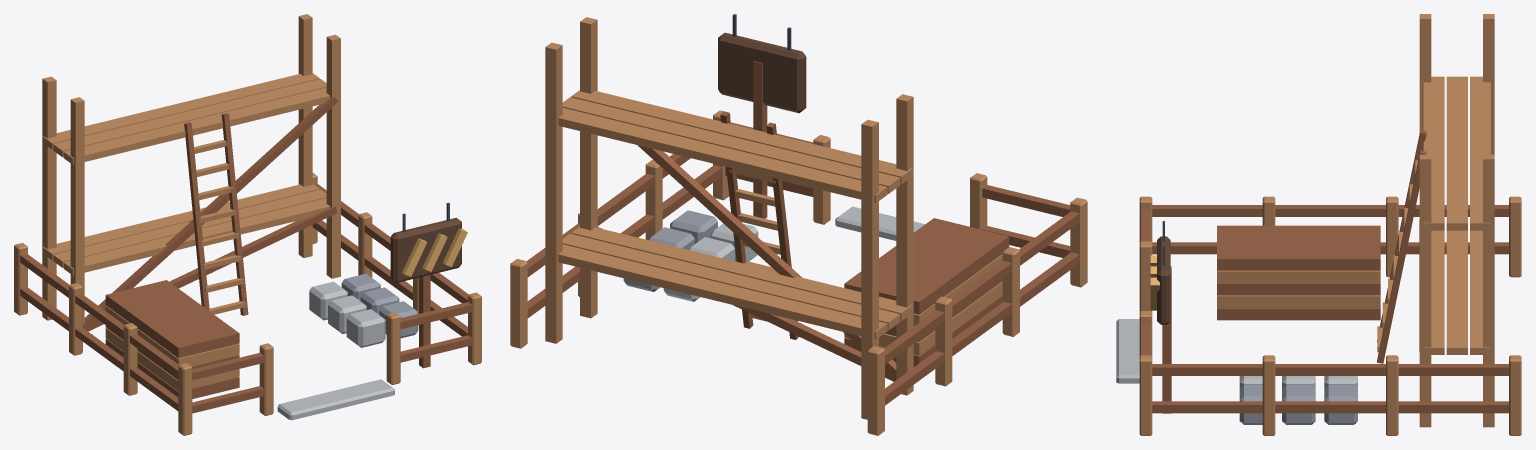
The model's file is construction_site.glb.
3 views of the same model, side by side, from view 1: azimuth 30°, elevation 25°; view 2: azimuth 150°, elevation 25°; view 3: azimuth 270°, elevation 25° (orthographic). The views are drawn at different scales.
Parts seen in each view (by area): view 1: construction_site_建筑共用调色板.014; view 2: construction_site_建筑共用调色板.014; view 3: construction_site_建筑共用调色板.014.
Part boxes in pixels (x1,y1,x2,y2): construction_site_建筑共用调色板.014: [14, 14, 481, 435]; construction_site_建筑共用调色板.014: [510, 14, 1087, 435]; construction_site_建筑共用调色板.014: [1116, 14, 1521, 435].
Bounding box in the file's own units: 3.68 × 2.8 × 3.84.
Materials: 1 (1 with a texture image).
